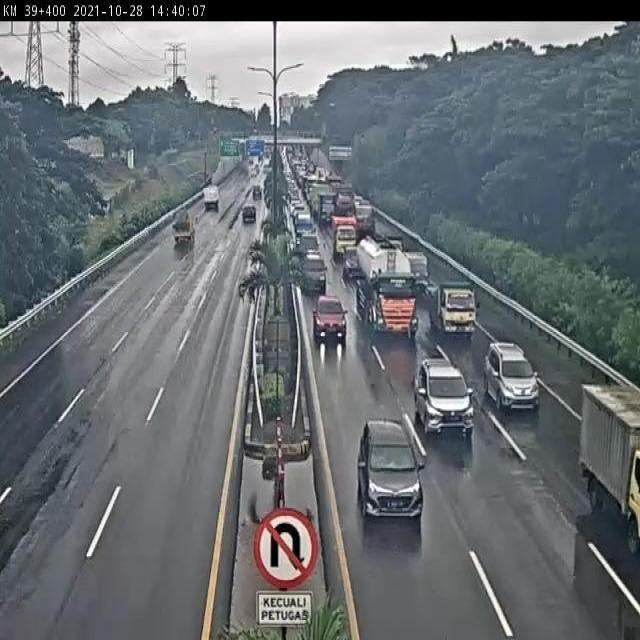Car: (356, 418, 425, 521), (413, 356, 474, 437), (484, 339, 540, 411), (312, 293, 348, 345), (299, 251, 327, 294), (297, 230, 319, 259), (202, 185, 220, 211), (242, 204, 256, 223), (253, 186, 262, 200)
Truck: (578, 381, 640, 558), (351, 238, 419, 344), (427, 281, 478, 341), (329, 214, 358, 258), (354, 198, 376, 240), (317, 190, 338, 228), (172, 212, 196, 244)
